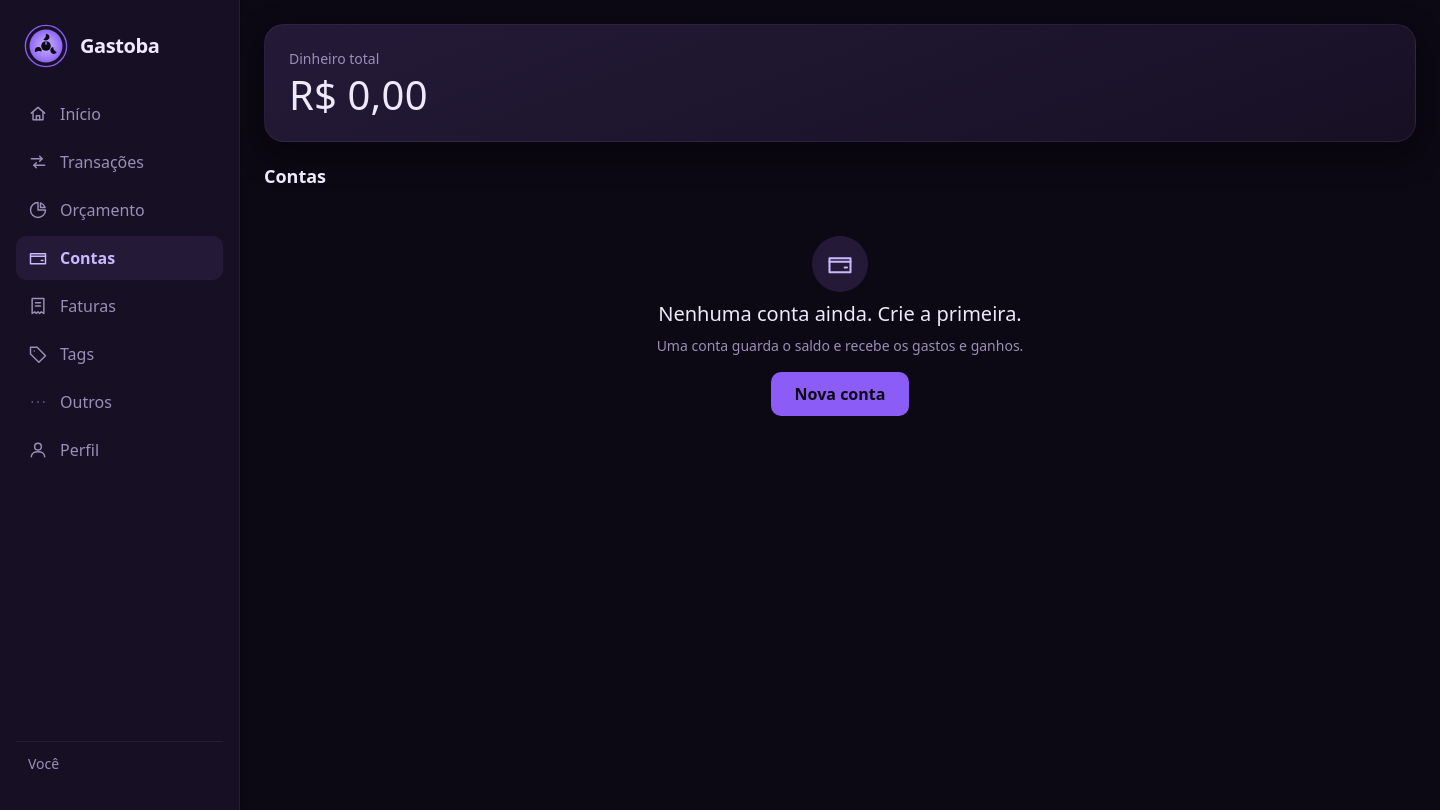
Contas › criar uma conta pelo formulário avisa e mostra a conta nova
Expected: the text "Nenhuma conta ainda. Crie a primeira." is shown, [658,300,1022,328]
Click the button "Nova conta": (840, 394) [771,372,909,416]
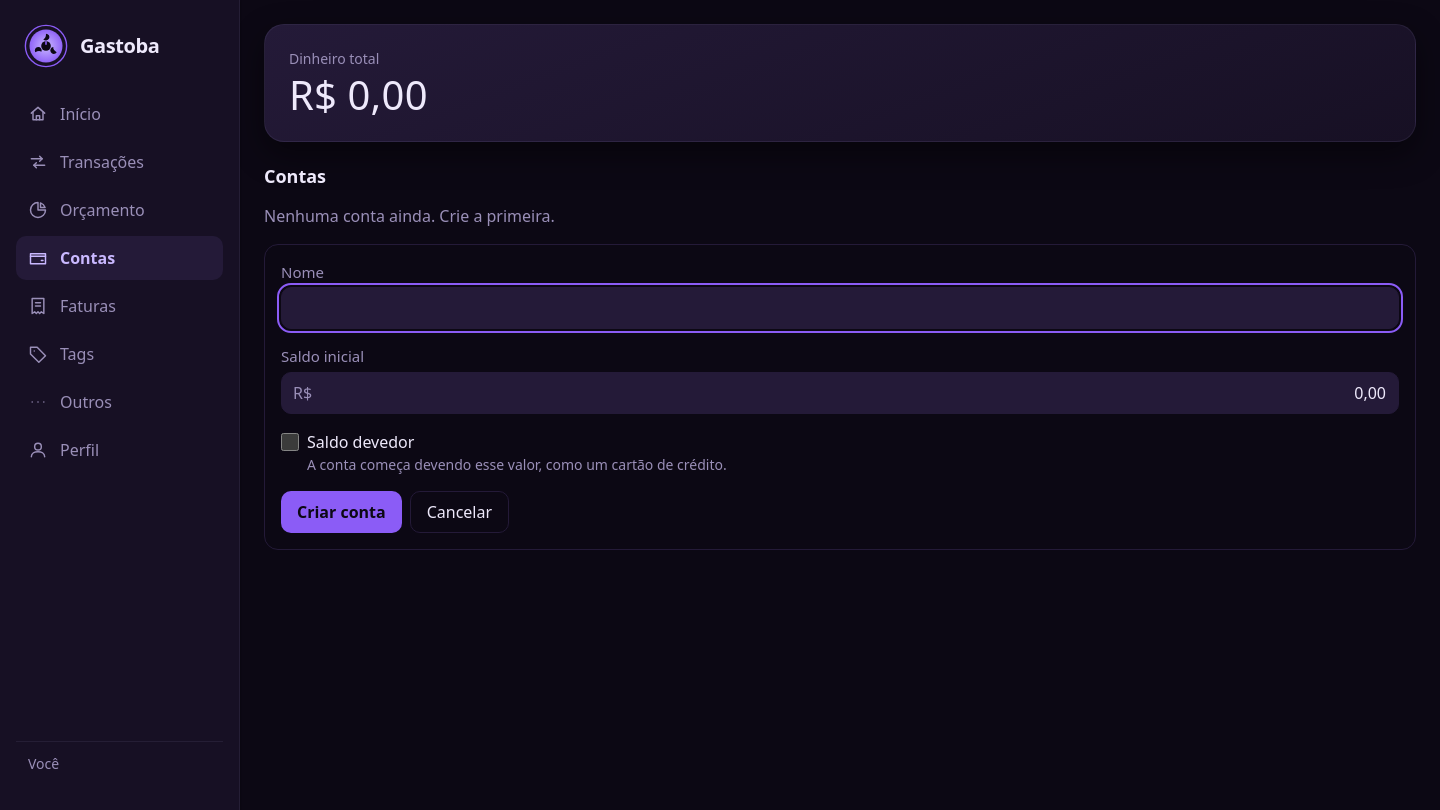
In the field labelled "Nome": (840, 308) [281,287,1399,329], type "Poupança"
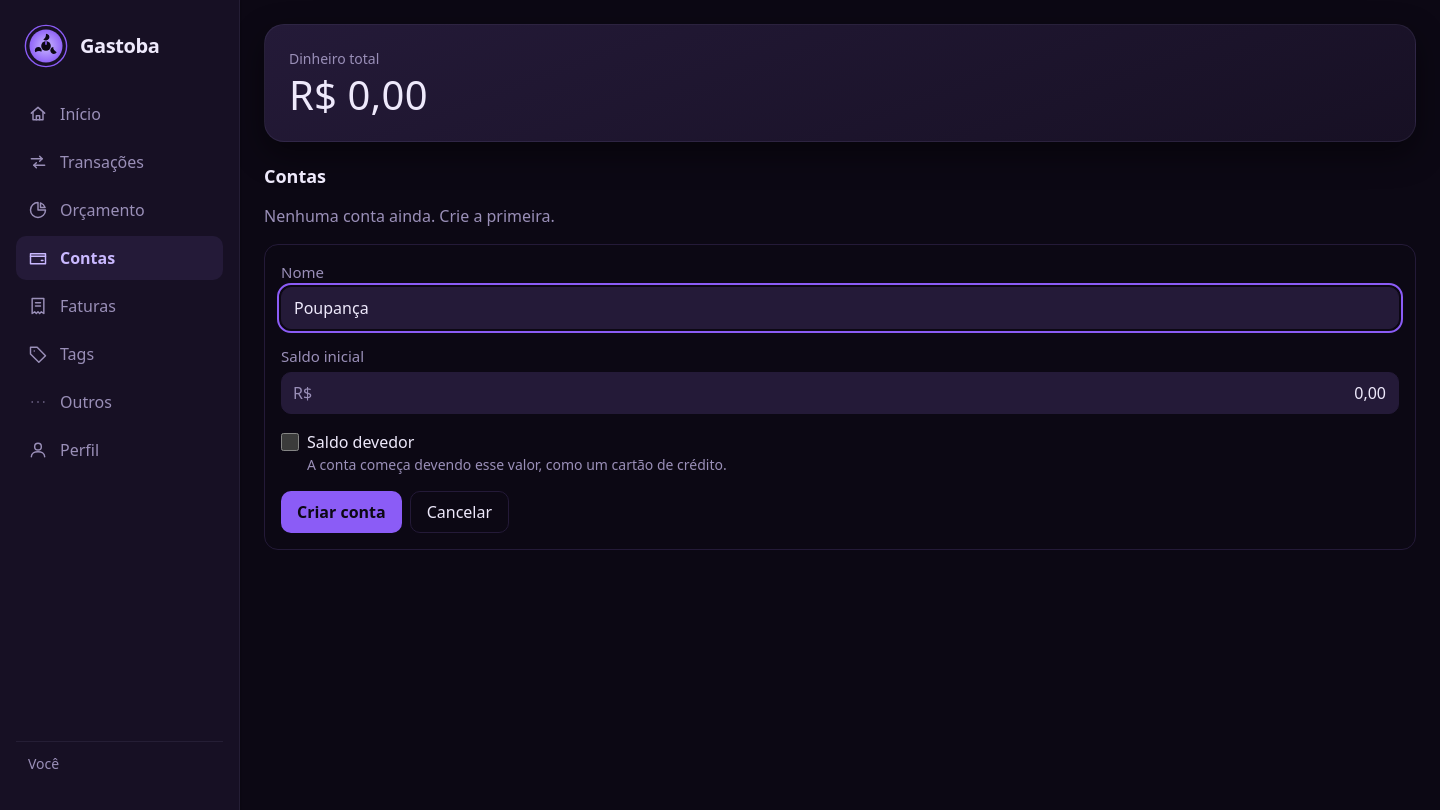
Click the button "Criar conta": (341, 512) [281,491,402,533]
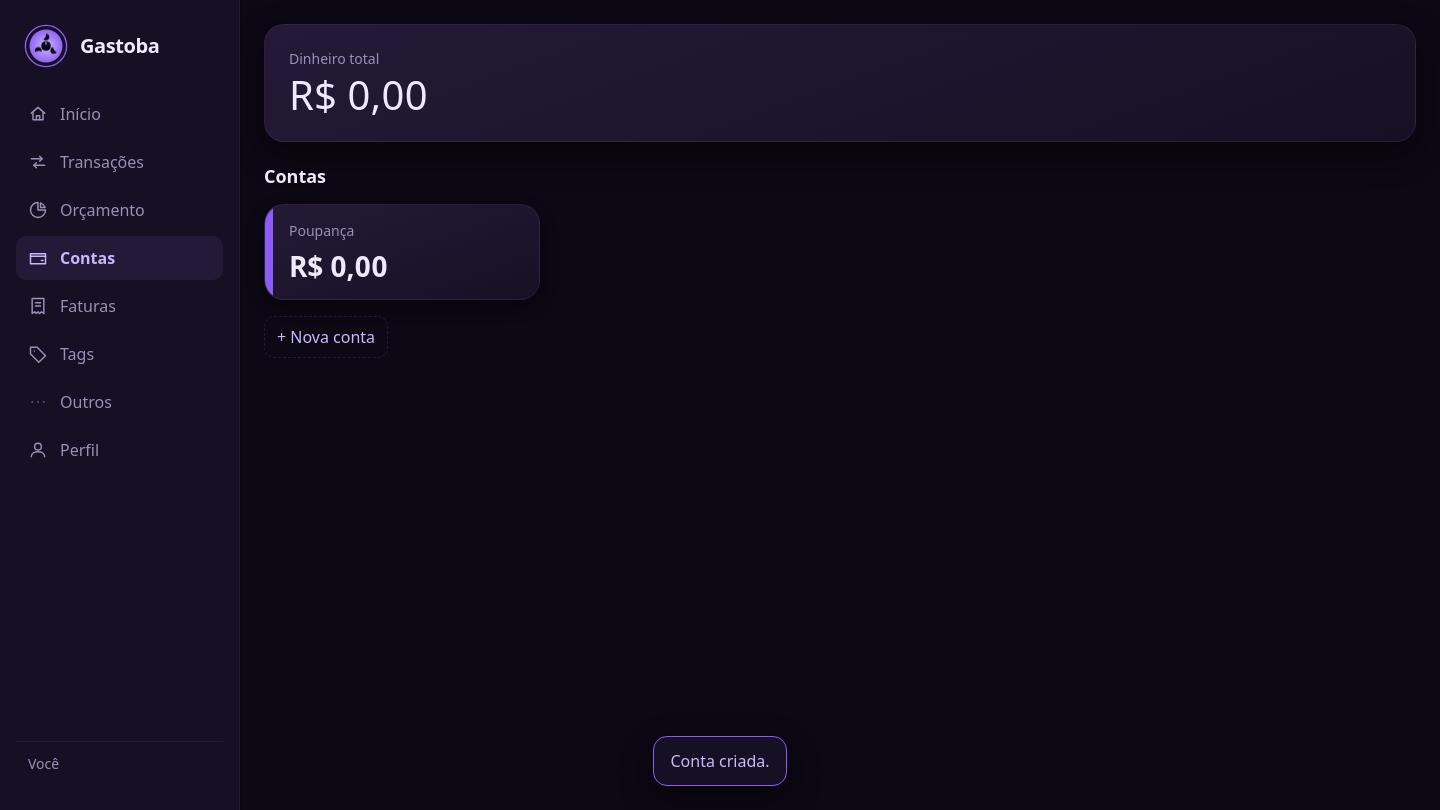
Now the text "Conta criada." is shown, box [670,750,770,772]
Now the text "Poupança" is shown, box [289,221,354,241]
